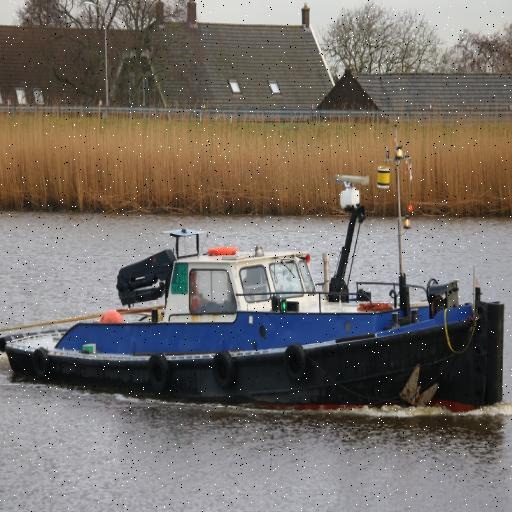tugboat: (1, 170, 510, 429)
